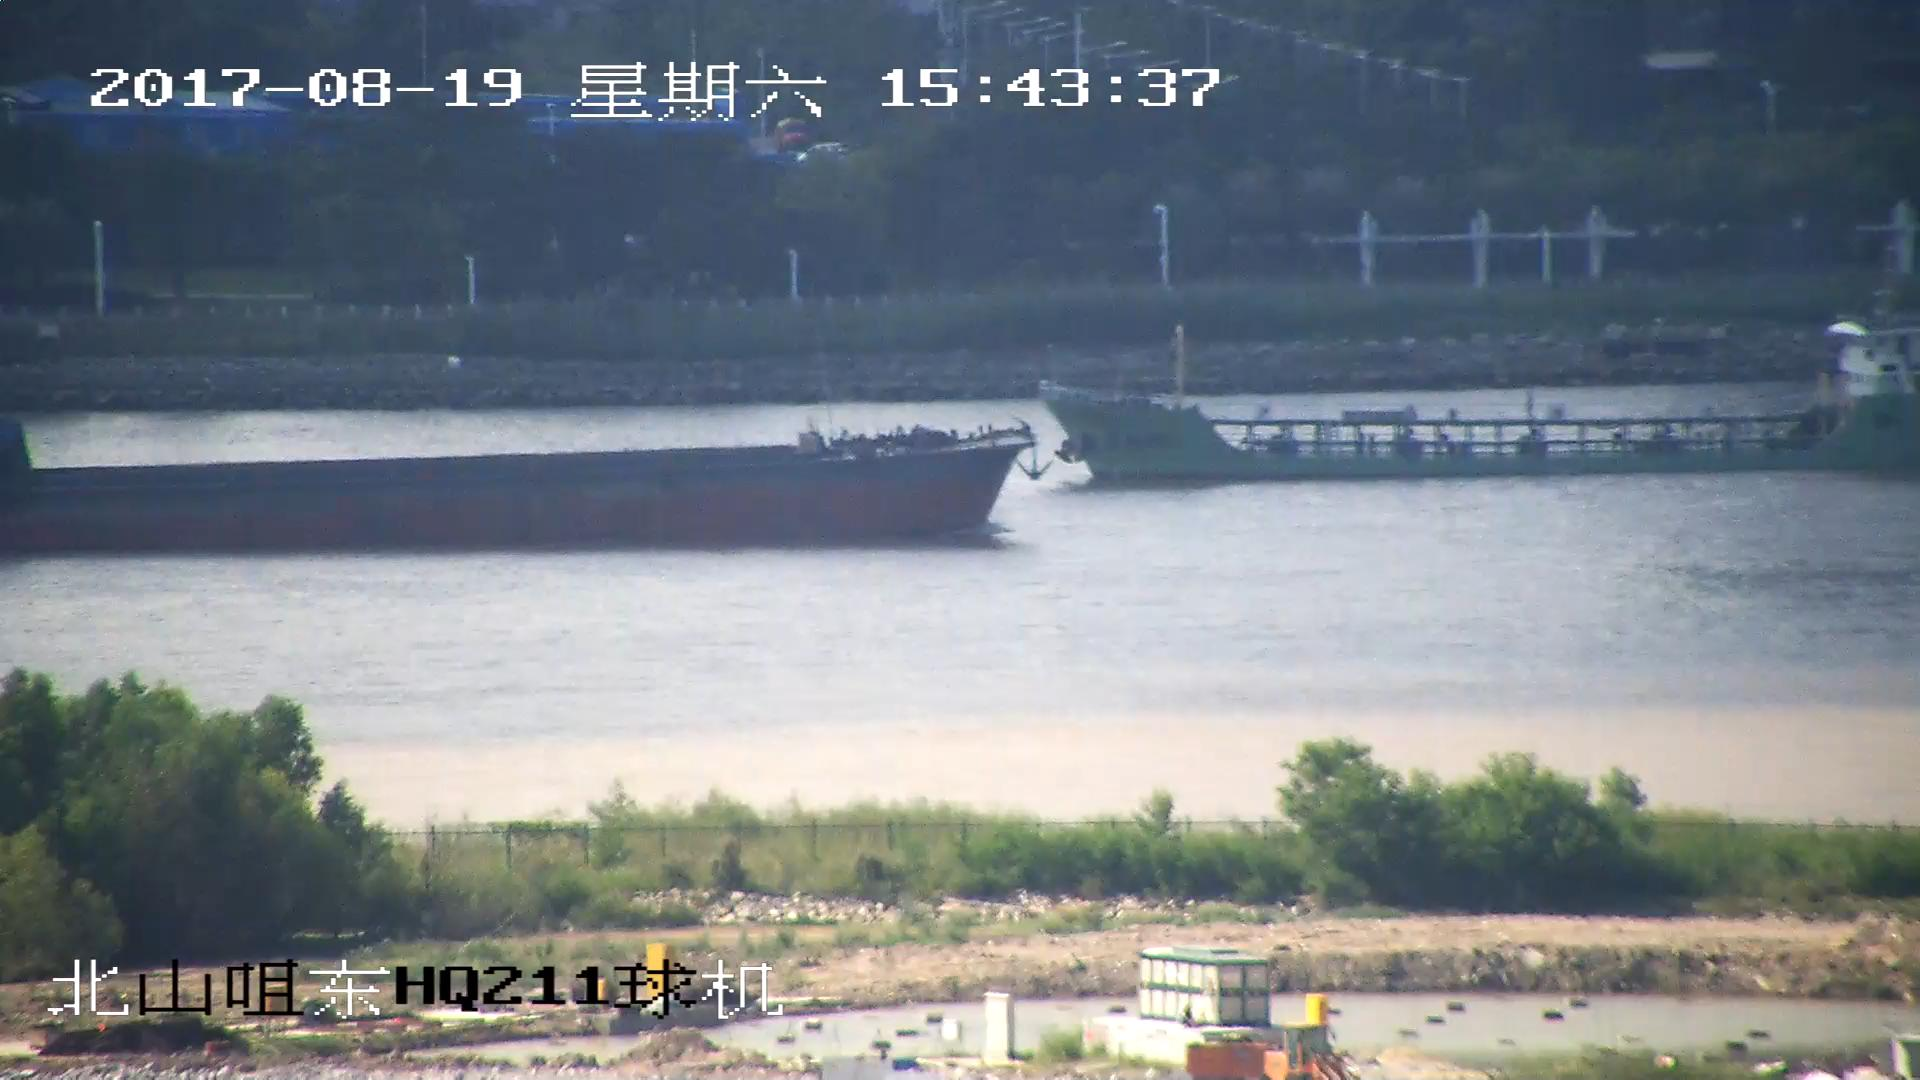bulk cargo carrier: (1, 419, 1032, 557)
general cargo ship: (1038, 320, 1920, 481)
